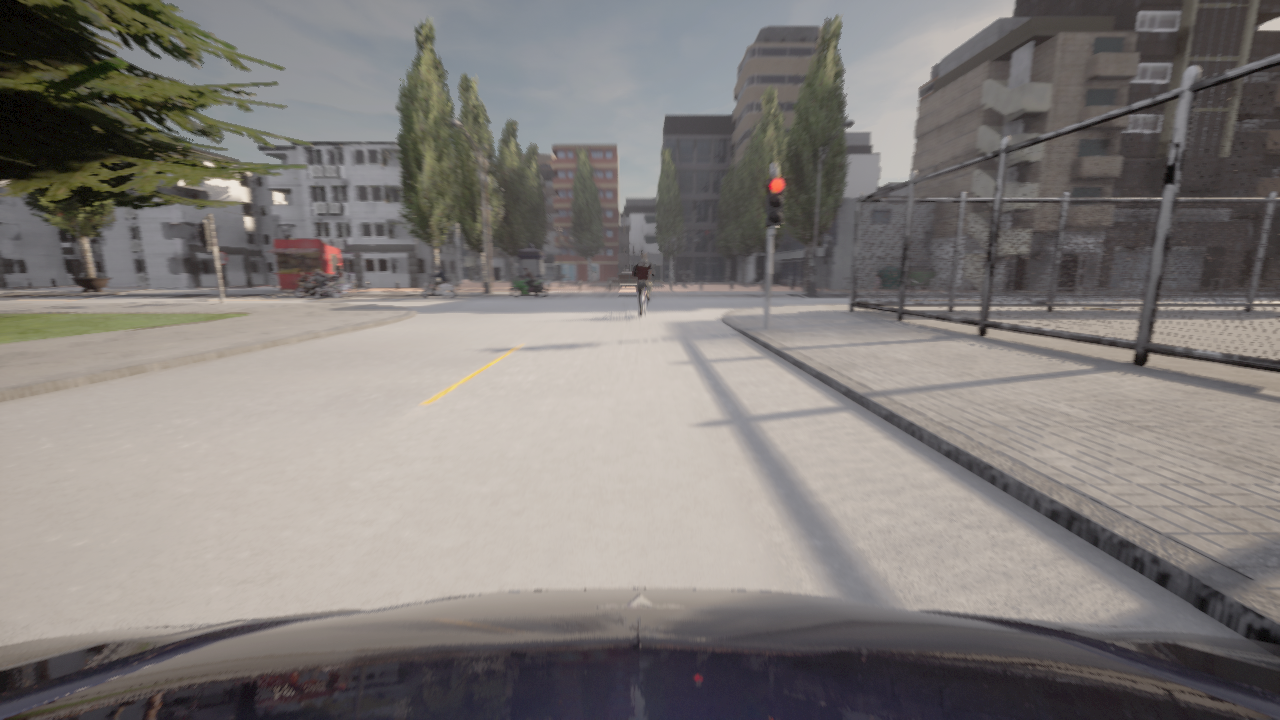cyclist: (0, 588, 1279, 719), (294, 272, 339, 297), (421, 273, 457, 298), (510, 274, 548, 297), (317, 277, 353, 298), (639, 288, 647, 318)
pedestrian: (874, 275, 879, 292)
